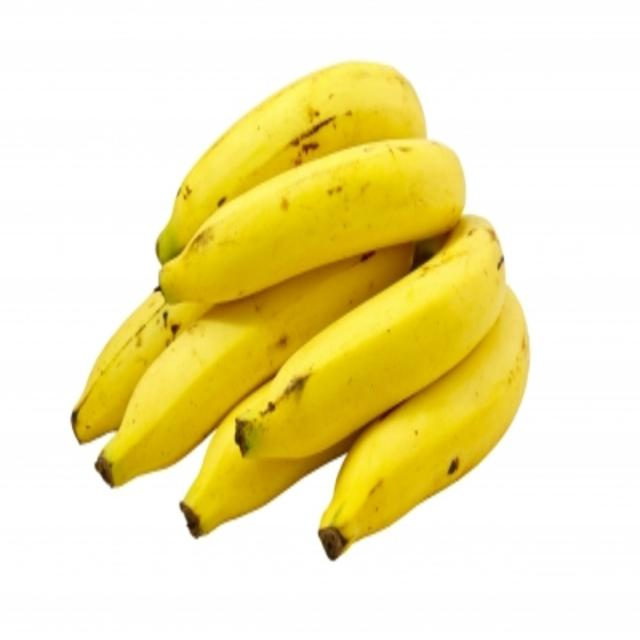Banana: (95, 244, 414, 487), (236, 216, 506, 458), (319, 288, 529, 558), (156, 62, 426, 264), (159, 139, 465, 303), (180, 382, 355, 537), (71, 289, 208, 444)
